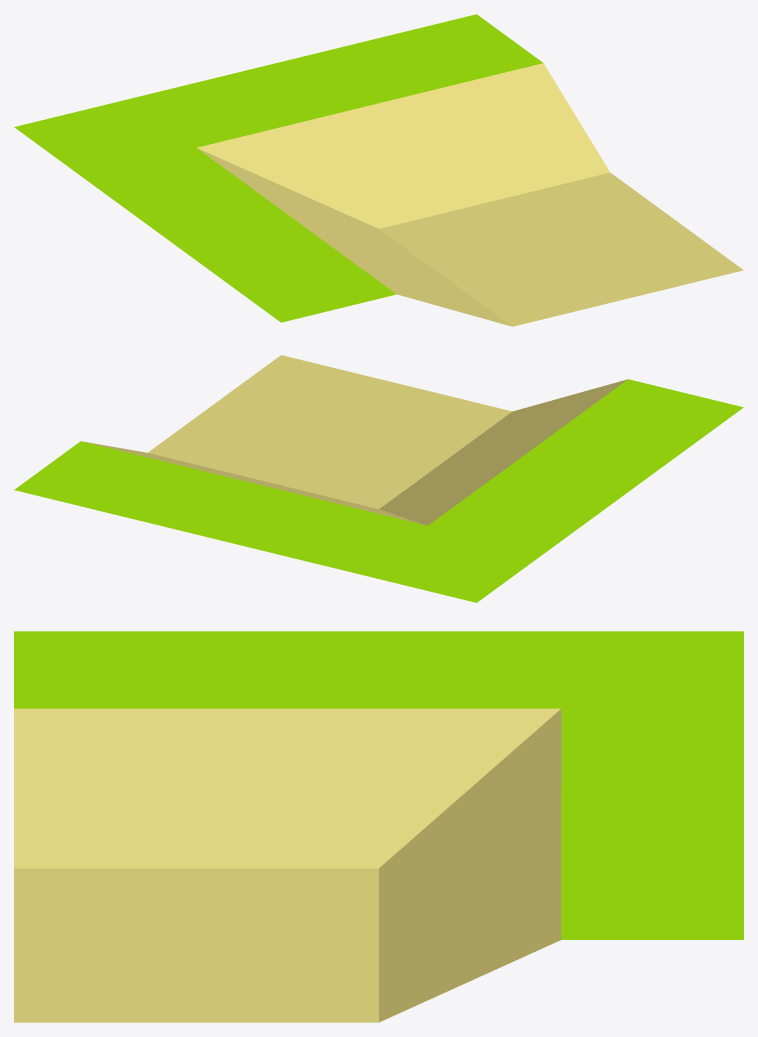
The model's file is TOPL.003.fbx.
3 renders of one model, top to bottom at view 1: azimuth 30°, elevation 25°; view 2: azimuth 150°, elevation 25°; view 3: azimuth 270°, elevation 25°, orthographic. The views are drawn at different scales.
Visible parts, largest first — view 1: TOPL.003; view 2: TOPL.003; view 3: TOPL.003.
Part boxes in pixels (<box>): TOPL.003: <box>14,14,743,326</box>; TOPL.003: <box>14,355,743,602</box>; TOPL.003: <box>14,631,743,1022</box>.
Bounding box in the file's own units: 2 × 0.25 × 2.
